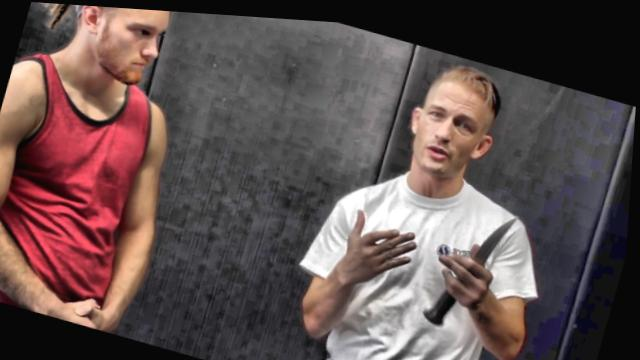knife: (419, 183, 530, 340)
